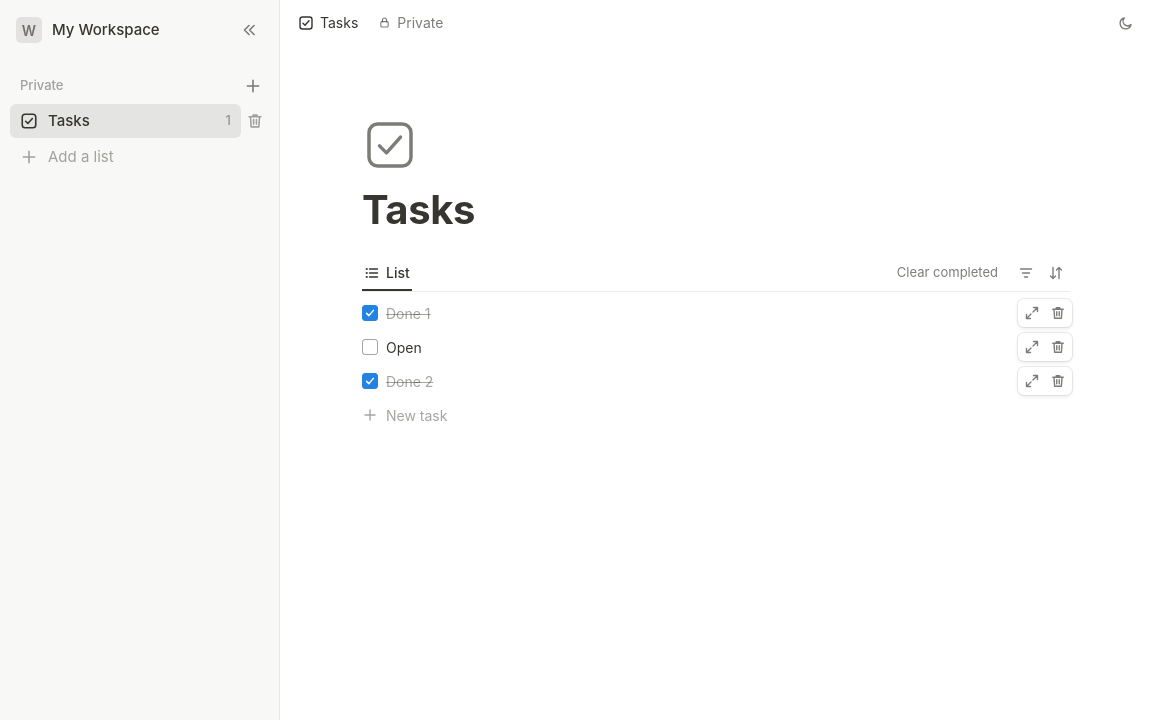
Test: deleting tasks › clears all completed tasks (with undo)
Expected: the field labelled "New task" is shown, [386,402,1070,428]
Click the button "Clear completed": (947, 272) [889,258,1006,286]
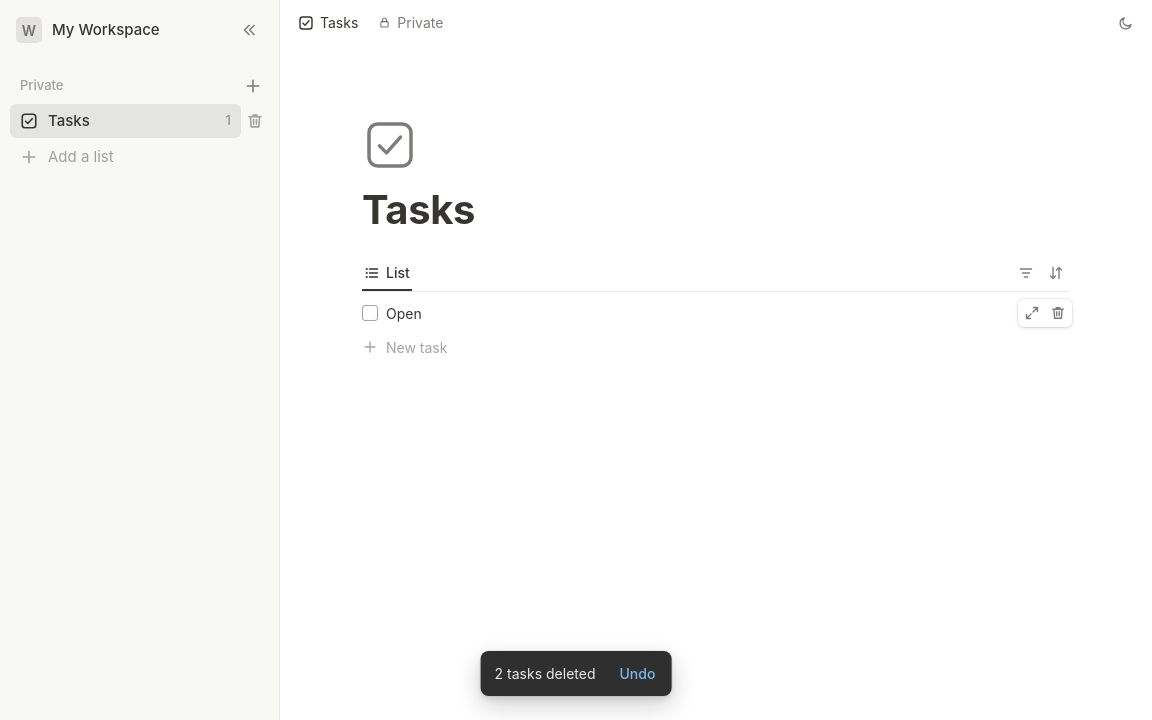
Expected: the message shows "2 tasks deleted", [495,665,596,682]
